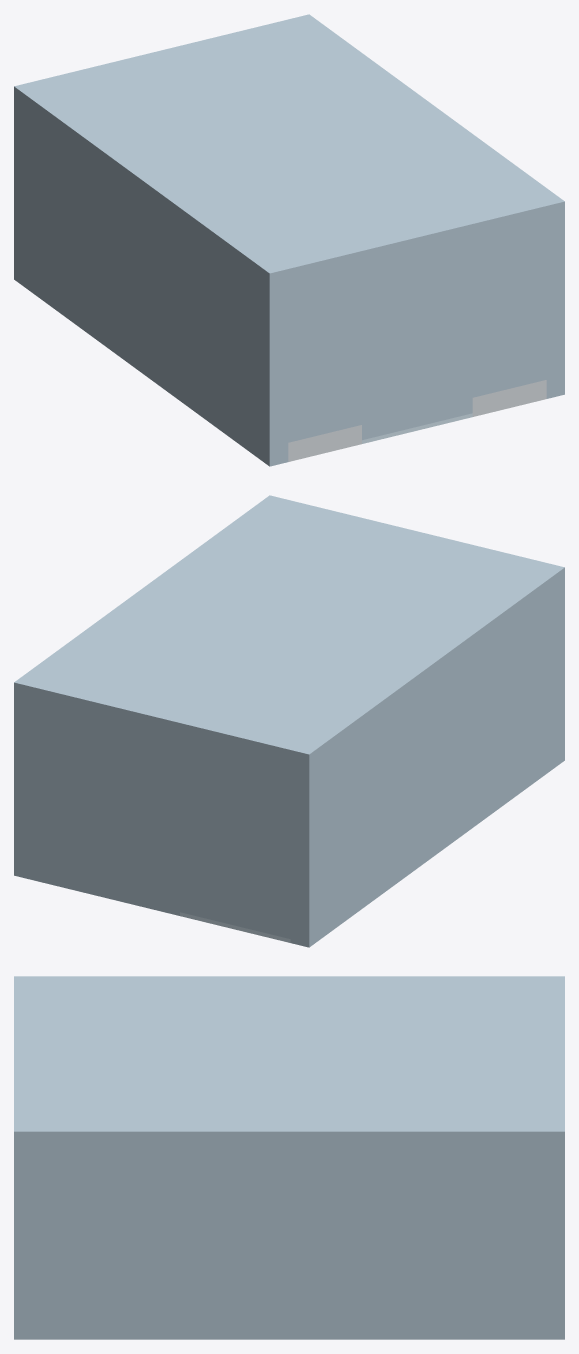
The model's file is frozen-narrows-mirror.glb.
The picture shows the model from 3 angles, top to bottom: view 1: azimuth 30°, elevation 25°; view 2: azimuth 150°, elevation 25°; view 3: azimuth 270°, elevation 25°; orthographic projection. The views are drawn at different scales.
Parts seen in each view (by area): view 1: ice-rock_9, ice-rock_1, plug_frozen_south, ice-rock_8, ice-rock_6, plug_frozen_south.001, snow_3, snow_4, snow_2, snow_1; view 2: ice-rock_9, ice-rock_1, ice-rock_2, plug_slide_north, ice-rock_7, plug_slide_north.001; view 3: ice-rock_9, ice-rock_2, ice-rock_6, ice-rock_3, ice-rock_4, ice-rock_5.
Boxes of the visible parts, left/top/right/bottom form: ice-rock_9: left=14, top=14, right=564, bottom=292; ice-rock_1: left=14, top=106, right=288, bottom=466; plug_frozen_south: left=288, top=244, right=546, bottom=442; ice-rock_8: left=288, top=225, right=546, bottom=307; ice-rock_6: left=546, top=221, right=564, bottom=398; plug_frozen_south.001: left=362, top=398, right=472, bottom=440; snow_3: left=472, top=389, right=509, bottom=416; snow_4: left=509, top=380, right=546, bottom=407; snow_2: left=325, top=425, right=361, bottom=452; snow_1: left=288, top=434, right=324, bottom=461; ice-rock_9: left=14, top=495, right=564, bottom=773; ice-rock_1: left=290, top=587, right=564, bottom=947; ice-rock_2: left=14, top=702, right=179, bottom=915; plug_slide_north: left=180, top=761, right=290, bottom=923; ice-rock_7: left=180, top=742, right=290, bottom=788; plug_slide_north.001: left=180, top=897, right=290, bottom=938; ice-rock_9: left=14, top=976, right=564, bottom=1152; ice-rock_2: left=358, top=1152, right=564, bottom=1339; ice-rock_6: left=14, top=1152, right=220, bottom=1339; ice-rock_3: left=312, top=1152, right=358, bottom=1339; ice-rock_4: left=266, top=1152, right=312, bottom=1339; ice-rock_5: left=220, top=1152, right=266, bottom=1339.
Size of the model in its own units: 8 by 5 by 12.
